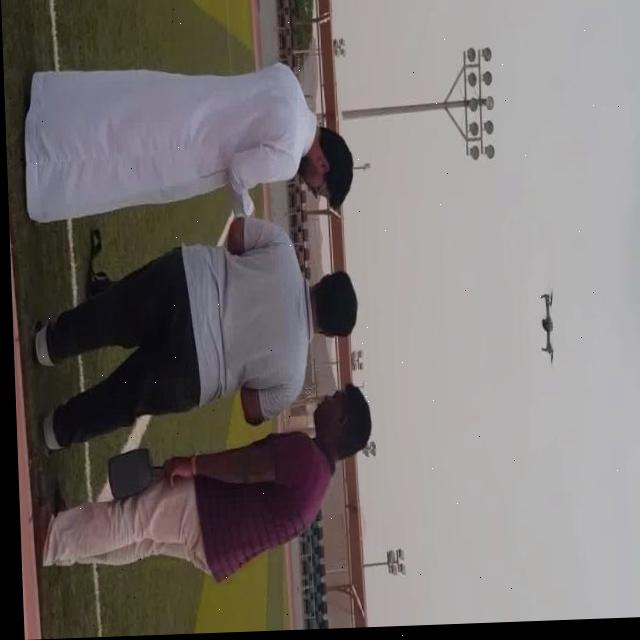drone: (534, 283, 556, 370)
